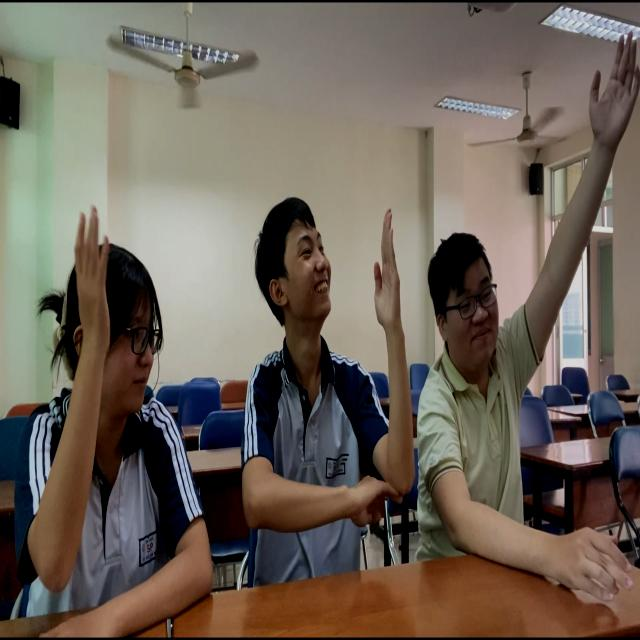raise_hand: (427, 26, 640, 612), (17, 203, 212, 640), (241, 190, 419, 596)
